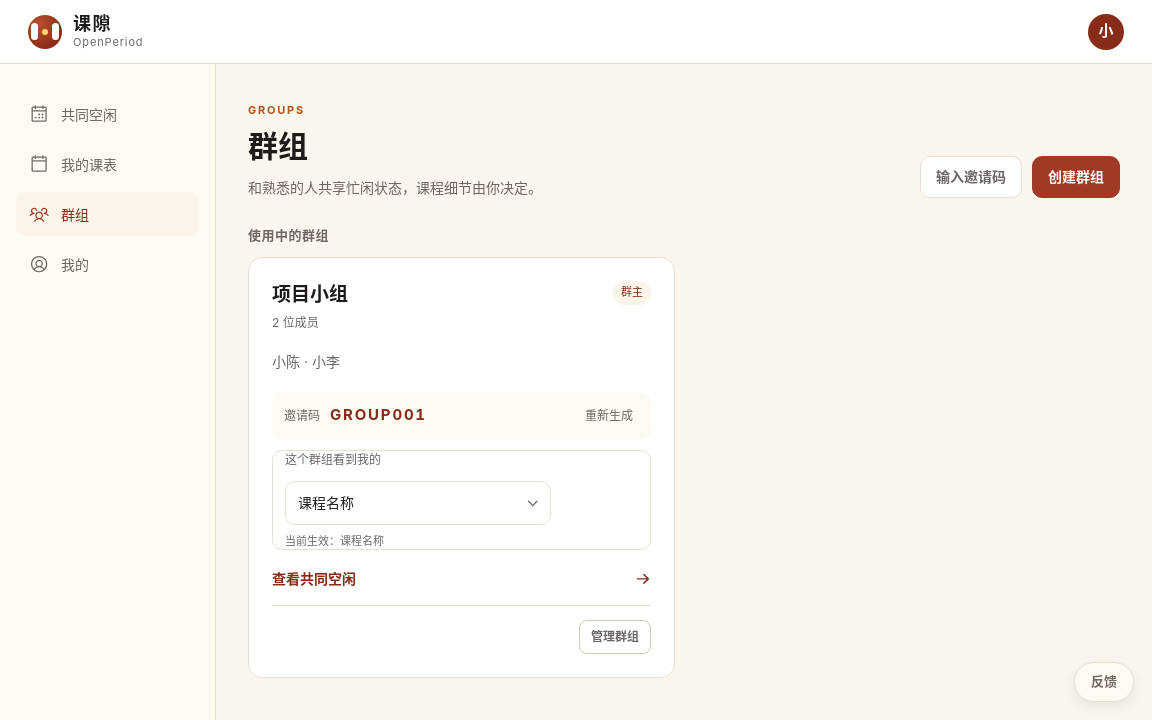
Test: group lifecycle dashboard › lets an owner rename, archive and restore while showing the retention warning
Check: the heading "项目小组" is shown, box [272,281,348,310]
Click the button "管理群组" at (615, 637), box [579,620,651,654]
(page scrolled)
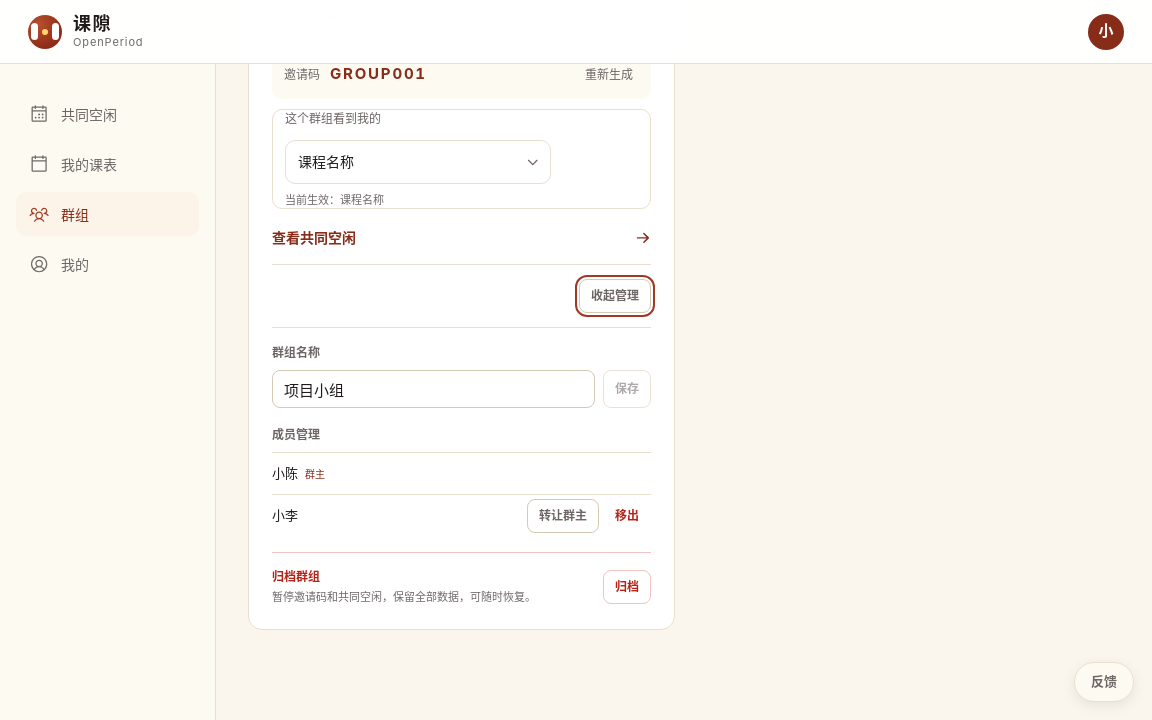
Replace the text in the field labelled "群组名称" with "秋季项目组" at (434, 389), box [272,370,595,408]
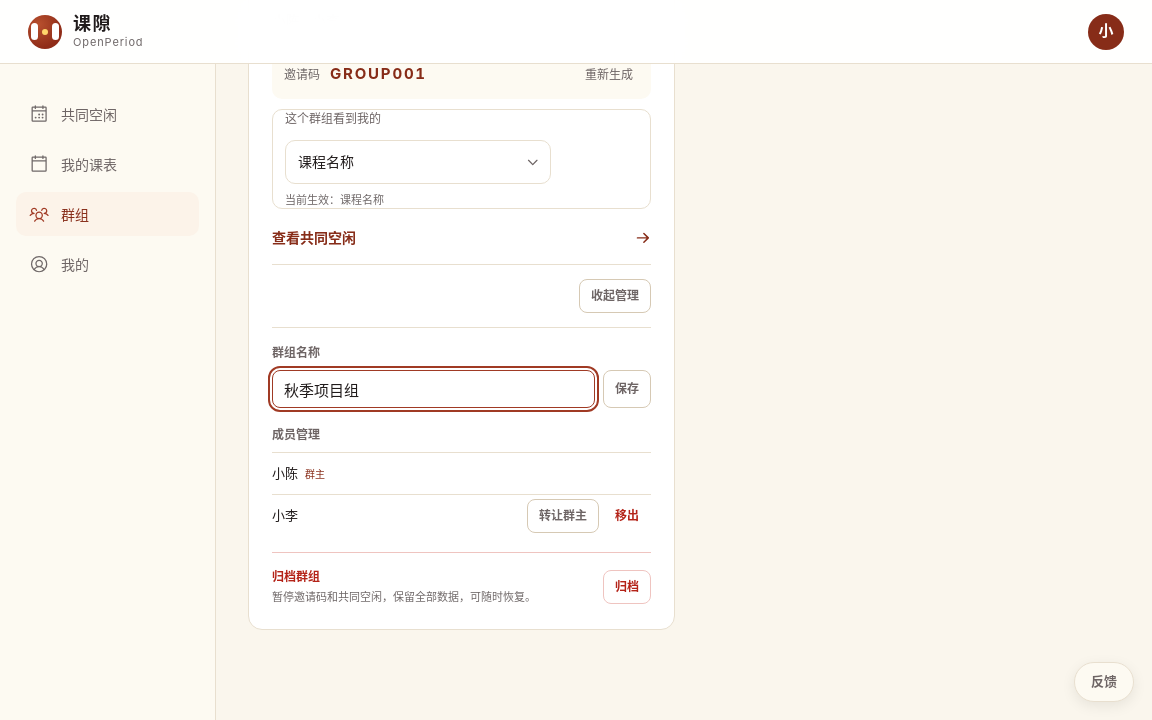
Click the button "保存" at (627, 389), box [603,370,651,408]
(page scrolled)
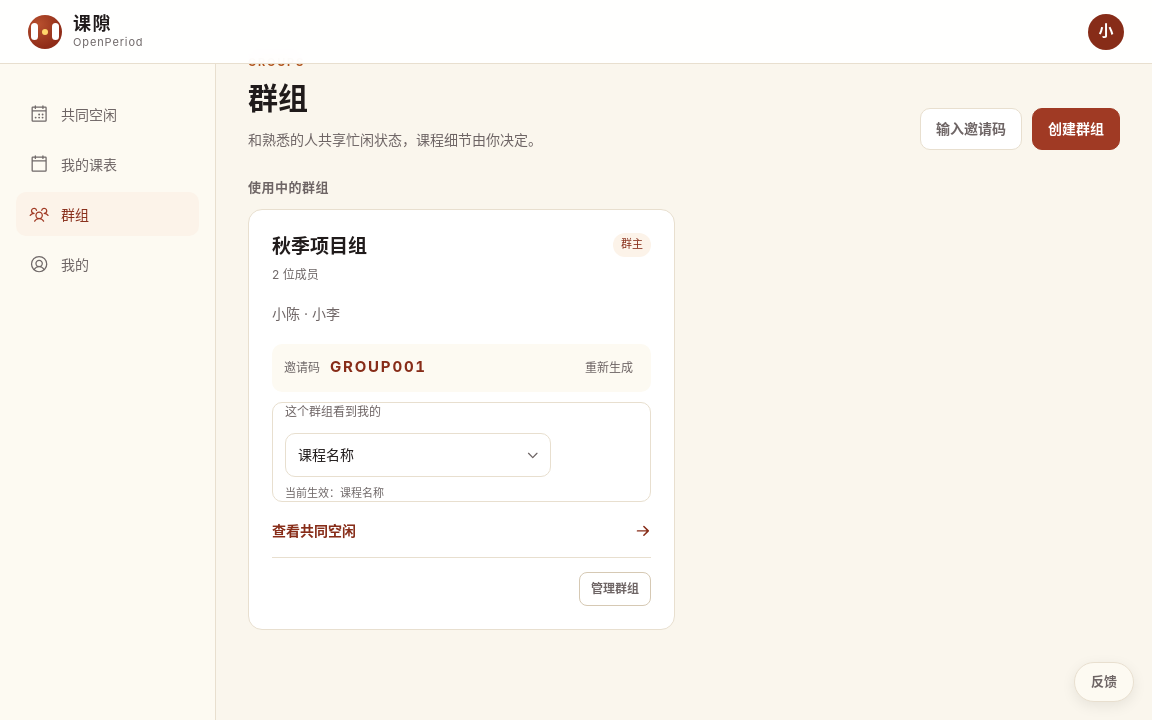
Check: the heading "秋季项目组" is shown, box [272,233,367,262]
Click the button "管理群组" at (615, 589), box [579,572,651,606]
(page scrolled)
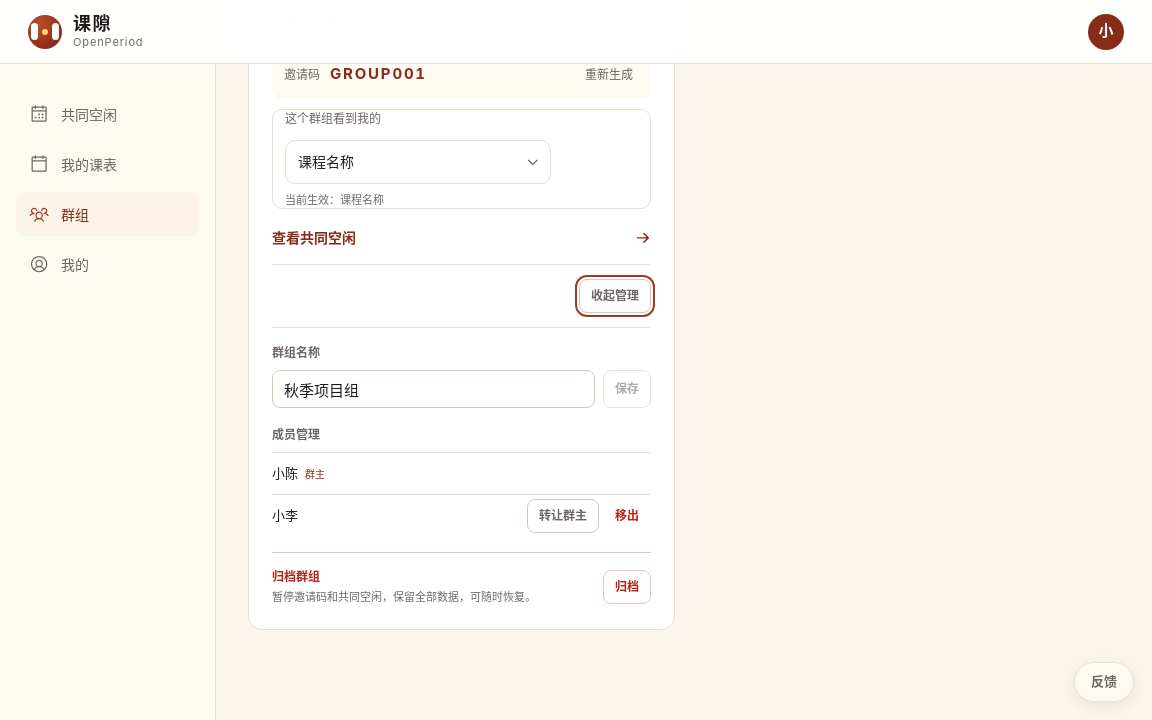
Click the button "归档" at (627, 587), box [603,570,651,604]
(page scrolled)
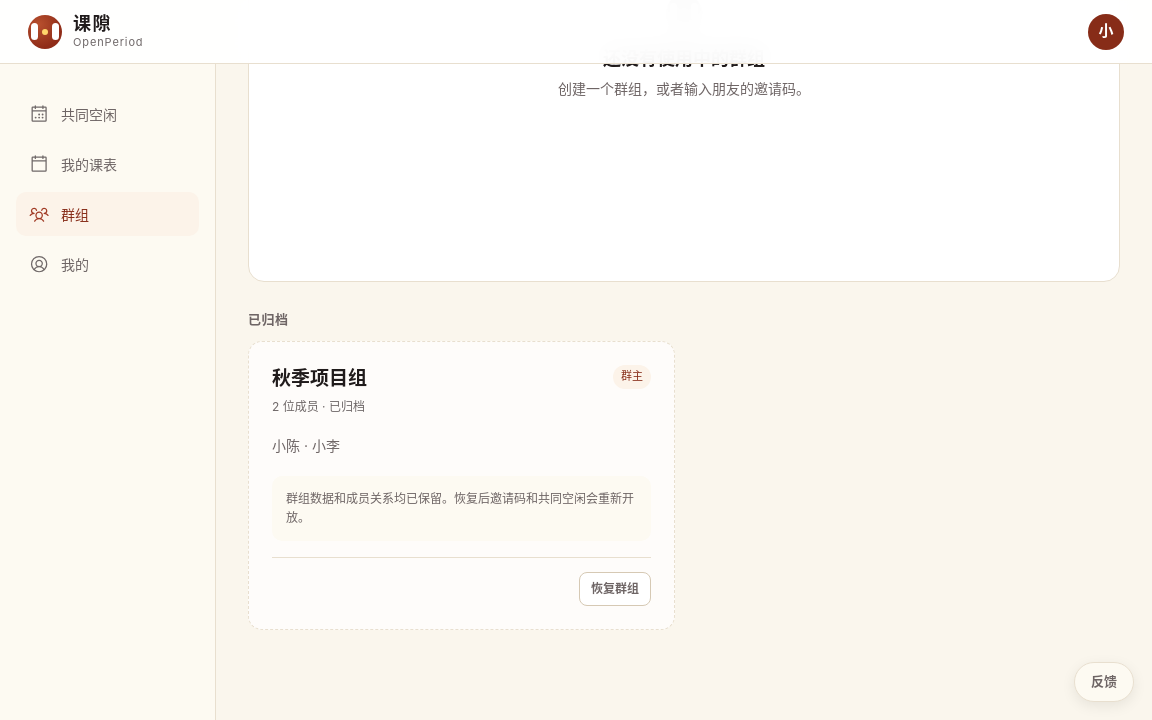
Check: the text "群组数据和成员关系均已保留。恢复后邀请码和共同空闲会重新开放。" is shown, box [272,476,651,541]
Check: the text "GROUP001" is gone
Check: the link "查看共同空闲" is gone
Click the button "恢复群组" at (615, 589), box [579,572,651,606]
(page scrolled)
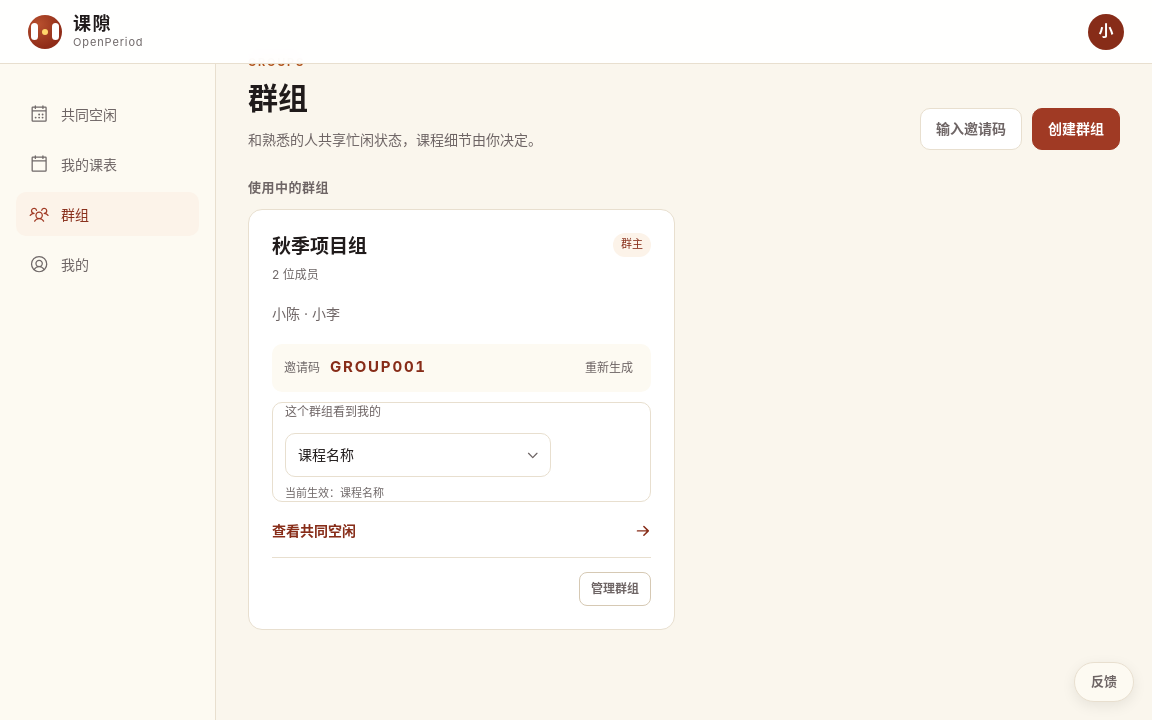
Check: the text "GROUP001" is shown, box [330,356,427,379]
